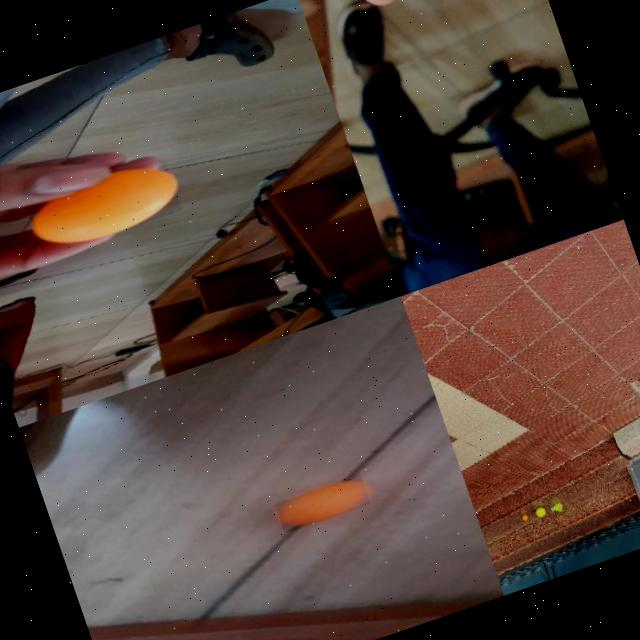ping-pong-ball: (25, 156, 184, 258), (274, 473, 372, 533), (520, 512, 528, 522)
